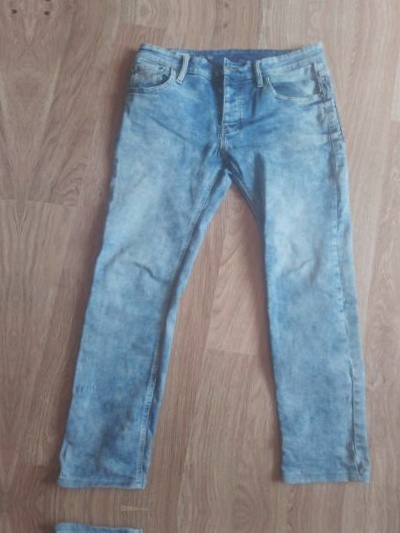Pants: (42, 29, 400, 505), (16, 521, 383, 533), (68, 0, 400, 2)
